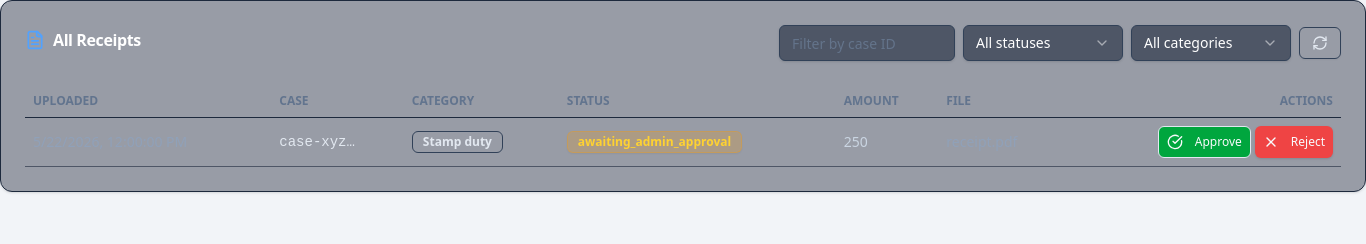
Test: AllReceiptsTab — non-OK reload guard clears stale rows › clears stale rows when a reload returns a non-2xx response
Expected: the button with test id "btn-all-receipts-approve-stamp_duty-42" is shown, [1158,126,1251,158]
Note: Trigger a manual reload via the refresh button.
Click the button with test id "btn-all-receipts-refresh": point(1320, 43) [1299,27,1341,59]
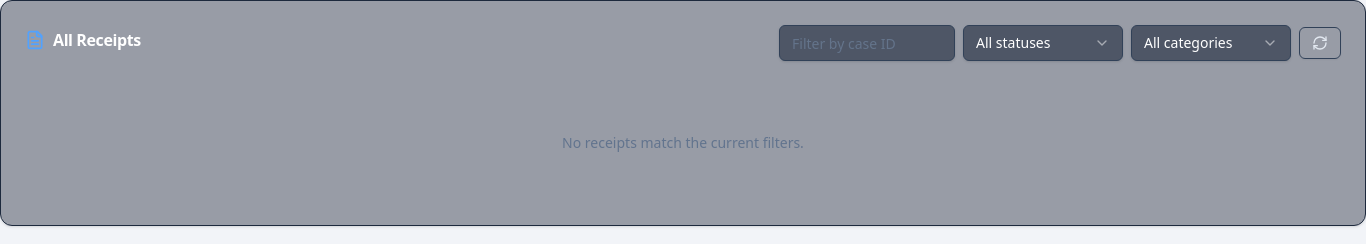
Now the button with test id "btn-all-receipts-approve-stamp_duty-42" is gone
